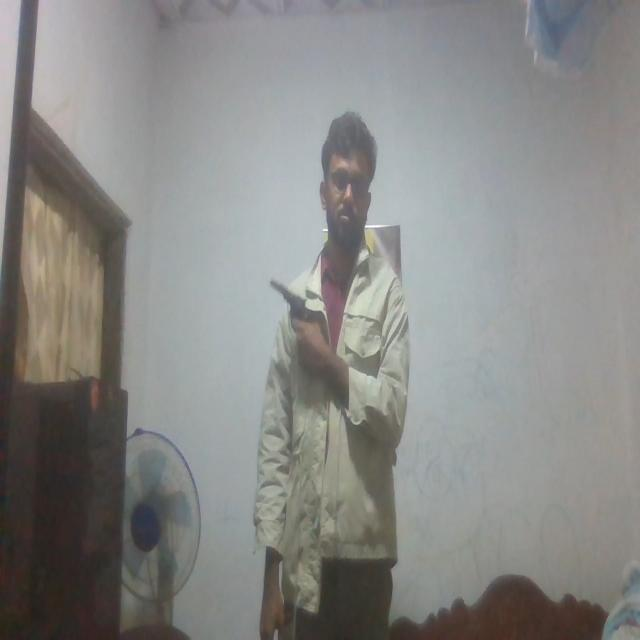Gun_Holder: (264, 275, 313, 352)
Jacket_Wearer: (249, 227, 417, 580)
Person: (250, 106, 405, 640)
